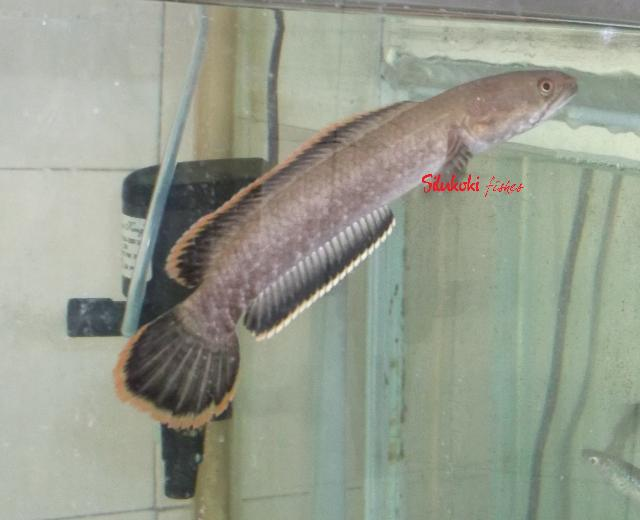Mulut: (530, 58, 592, 130)
Sirip Anal: (230, 201, 406, 338)
Sirip Dada: (430, 126, 480, 190)
Sirip Ekor: (111, 308, 246, 440)
Sirip Punggung: (165, 94, 417, 292)
